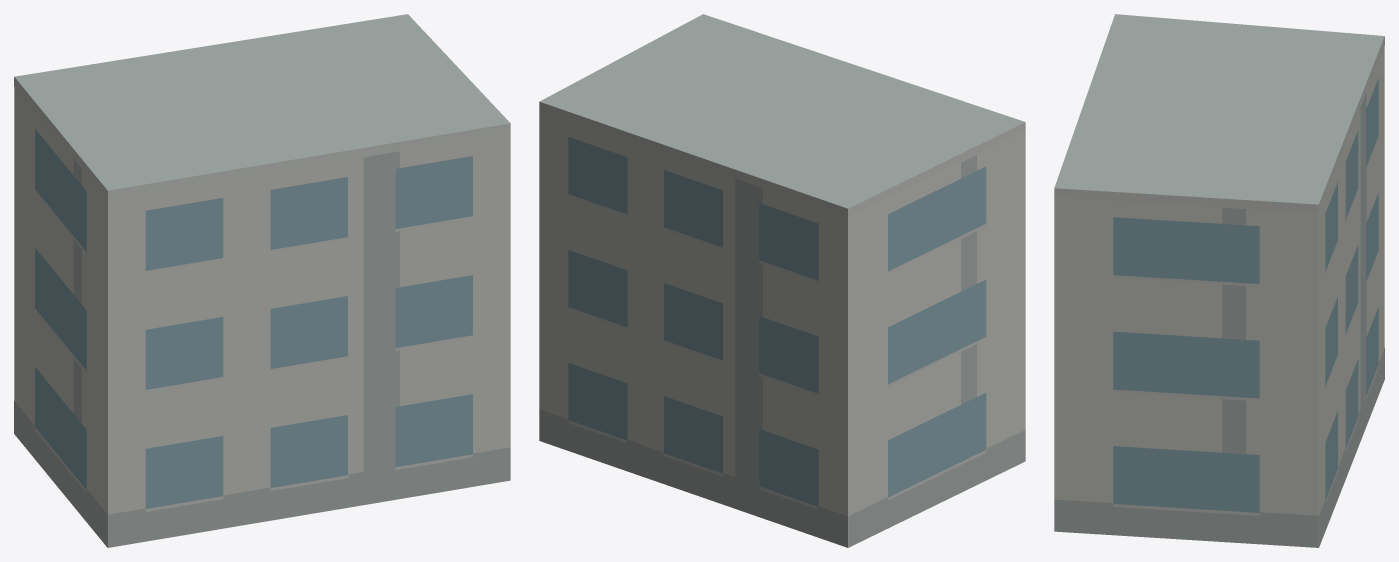
Rendered from residential-af9a0545-3dde-4a4c-8d72-94202b0c86e6.glb.
3 views of the same model, side by side, from view 1: azimuth 30°, elevation 25°; view 2: azimuth 150°, elevation 25°; view 3: azimuth 270°, elevation 25° (orthographic). The views are drawn at different scales.
Parts seen in each view (by area): view 1: residential-af9a0545-3dde-4a4c-8d72-94202b0c86e6.tmp; view 2: residential-af9a0545-3dde-4a4c-8d72-94202b0c86e6.tmp; view 3: residential-af9a0545-3dde-4a4c-8d72-94202b0c86e6.tmp.
Part boxes in pixels (x1,y1,x2,y2): residential-af9a0545-3dde-4a4c-8d72-94202b0c86e6.tmp: (14, 14, 510, 547); residential-af9a0545-3dde-4a4c-8d72-94202b0c86e6.tmp: (539, 14, 1025, 547); residential-af9a0545-3dde-4a4c-8d72-94202b0c86e6.tmp: (1054, 14, 1384, 547).
Size of the model in its own units: 10.9 by 9.15 by 7.99.
